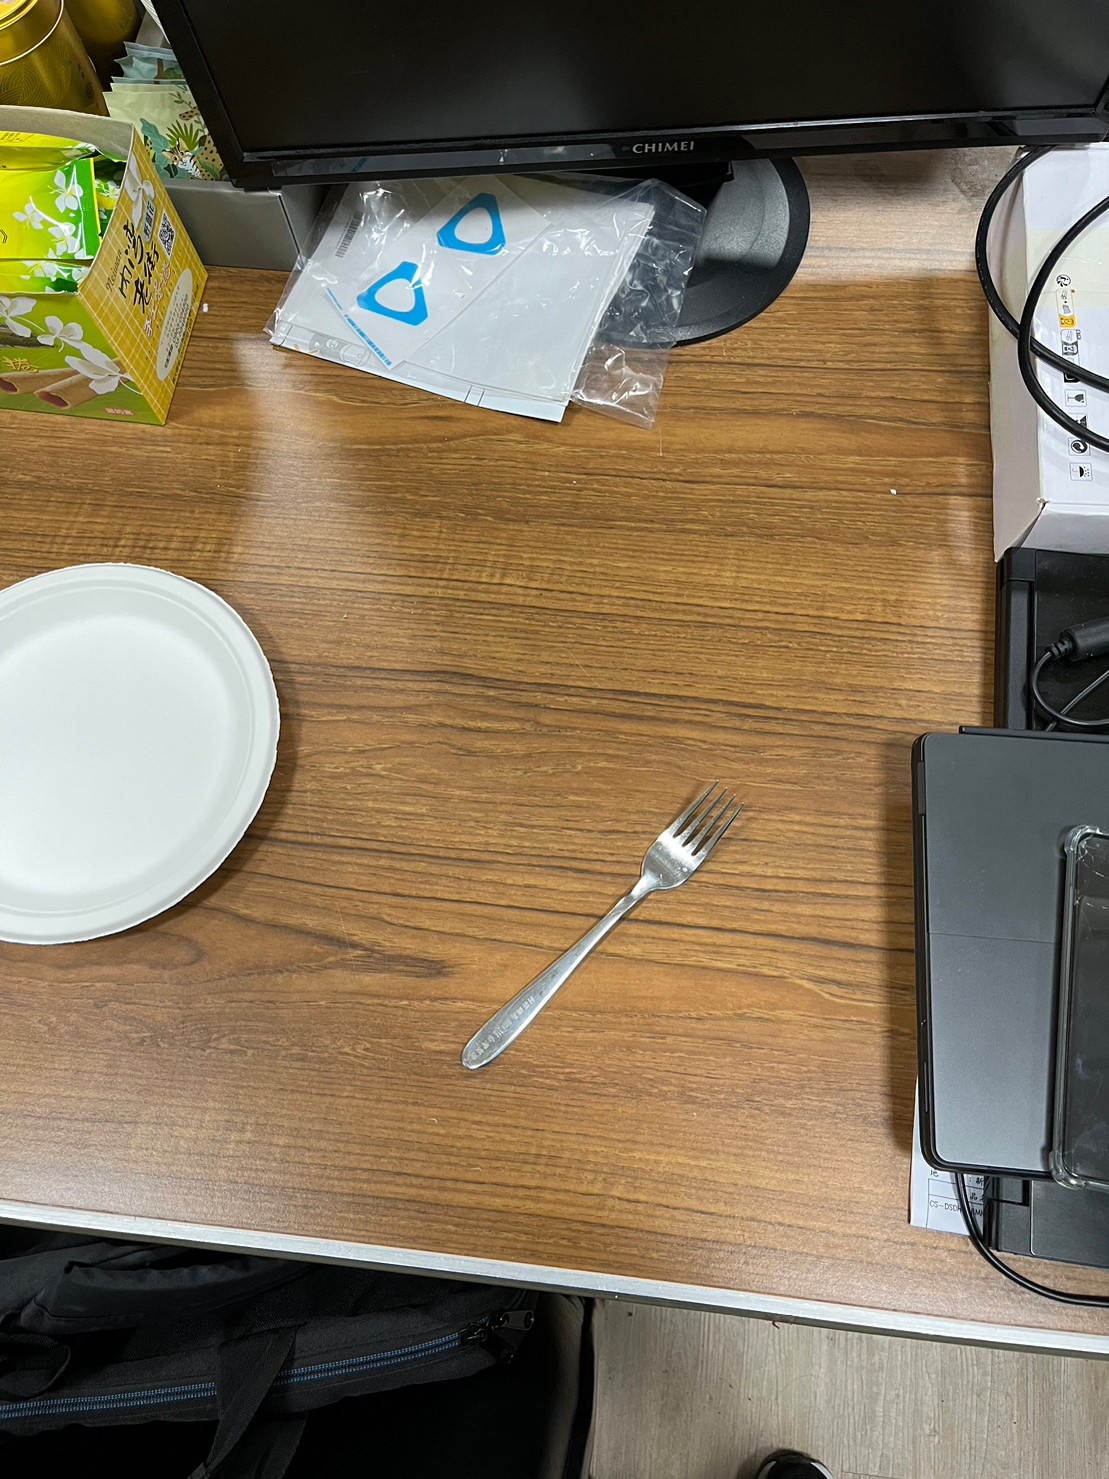fork: (450, 773, 756, 1096)
